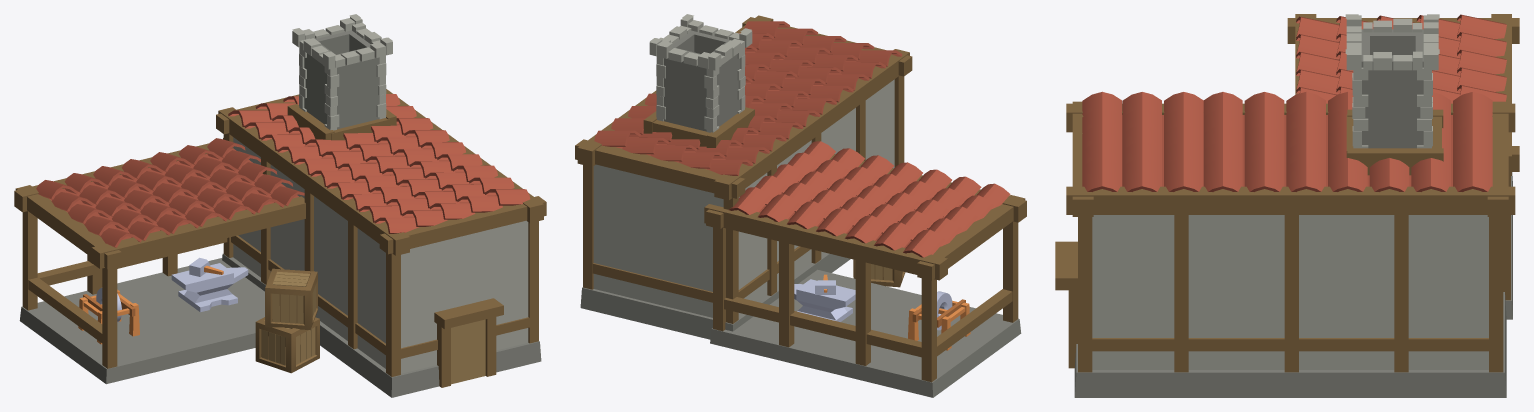
File: Forge.fbx
3 views of the same model, side by side, from view 1: azimuth 30°, elevation 25°; view 2: azimuth 150°, elevation 25°; view 3: azimuth 270°, elevation 25° (orthographic). The views are drawn at different scales.
Parts seen in each view (by area): view 1: 12, 0, 9, 2, 30, 11, 13, 17, 25, 1, 26, 29 (+20 smaller); view 2: 12, 0, 9, 3, 2, 24, 11, 17, 25, 5, 26, 1 (+17 smaller); view 3: 12, 1, 29, 11, 3, 17, 25, 26, 27, 28, 4, 2 (+11 smaller).
Part boxes in pixels (x1,y1,x2,y2): 12: (233, 137, 528, 373); 0: (19, 258, 264, 384); 9: (14, 94, 546, 268); 2: (22, 211, 538, 376); 30: (255, 268, 319, 373); 11: (218, 89, 543, 255); 13: (434, 298, 503, 387); 17: (304, 30, 378, 129); 25: (228, 110, 418, 233); 1: (222, 253, 541, 397); 26: (255, 103, 447, 226); 29: (386, 94, 530, 205); 12: (593, 79, 894, 317); 0: (710, 269, 1021, 397); 9: (575, 17, 1026, 280); 3: (713, 101, 870, 365); 2: (583, 75, 1018, 382); 24: (729, 187, 945, 257); 11: (577, 15, 909, 200); 17: (664, 30, 739, 131); 25: (707, 50, 902, 175); 5: (592, 263, 921, 357); 26: (678, 43, 874, 168); 1: (580, 252, 850, 339); 12: (1092, 215, 1488, 369); 1: (1074, 292, 1506, 397); 29: (1082, 158, 1492, 191); 11: (1066, 103, 1515, 214); 3: (1174, 176, 1510, 372); 17: (1361, 29, 1423, 148); 25: (1082, 91, 1492, 116); 26: (1082, 108, 1492, 133); 27: (1082, 125, 1492, 149); 28: (1082, 141, 1492, 166); 4: (1092, 338, 1488, 351); 2: (1078, 217, 1503, 372).
Size of the model in its own units: 153 by 103 by 135.
